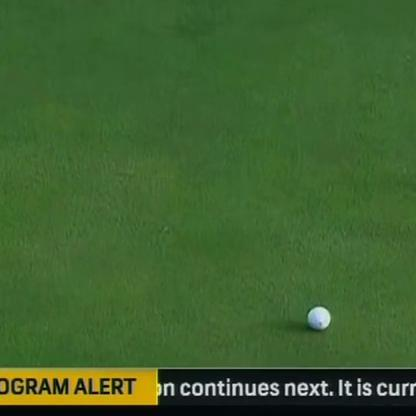golfball: (302, 299, 327, 329)
